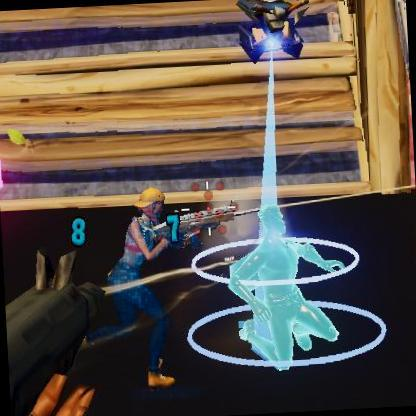person: (115, 198, 170, 380)
